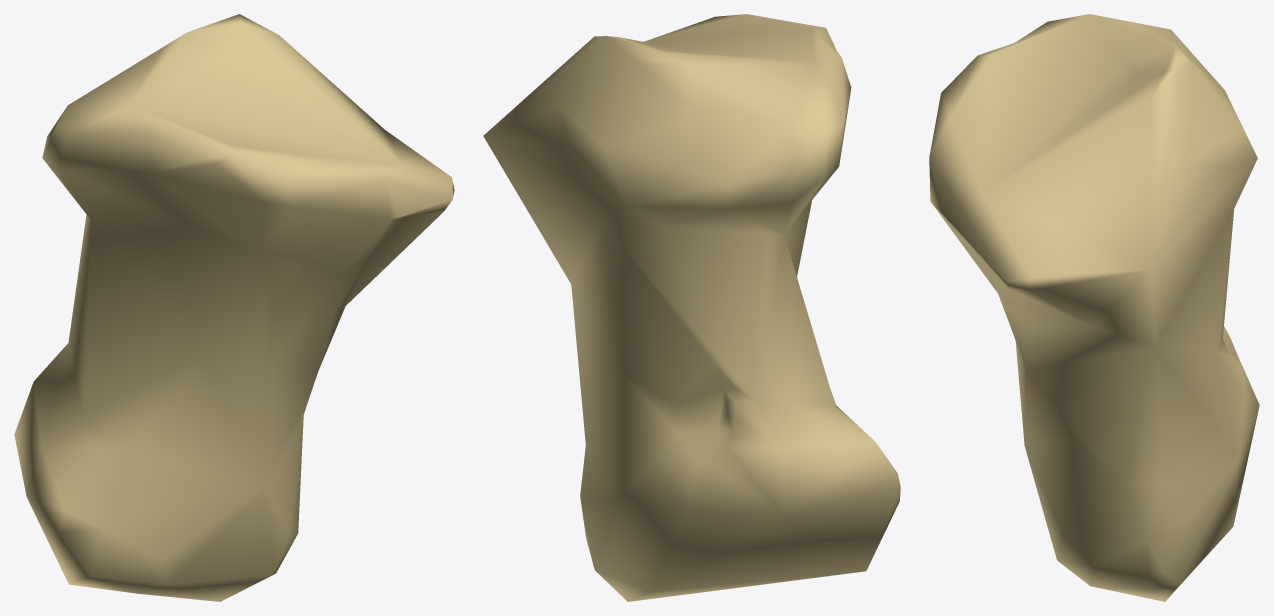
The picture shows the model from 3 angles, left to right: view 1: azimuth 30°, elevation 25°; view 2: azimuth 150°, elevation 25°; view 3: azimuth 270°, elevation 25°; orthographic projection. The views are drawn at different scales.
Parts seen in each view (by area): view 1: 右侧第二趾远节趾骨; view 2: 右侧第二趾远节趾骨; view 3: 右侧第二趾远节趾骨.
Part boxes in pixels (bbox=[...]): 右侧第二趾远节趾骨: bbox=[14, 14, 454, 601]; 右侧第二趾远节趾骨: bbox=[483, 14, 900, 601]; 右侧第二趾远节趾骨: bbox=[929, 14, 1259, 601].
Size of the model in its own units: 0.015 by 0.0201 by 0.0112.
